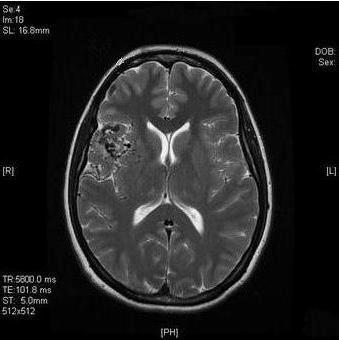Normal_Brain: (1, 1, 339, 340)
